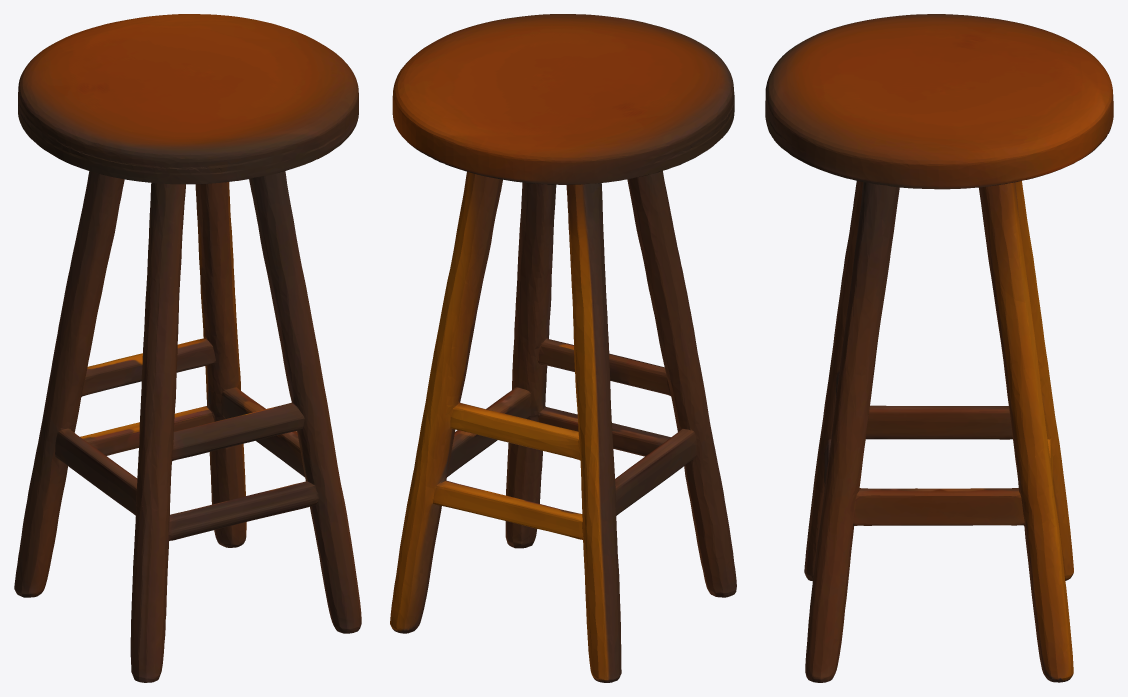
File: bar_stool_30.obj
3 views of the same model, side by side, from view 1: azimuth 30°, elevation 25°; view 2: azimuth 150°, elevation 25°; view 3: azimuth 270°, elevation 25° (orthographic). The views are drawn at different scales.
Size of the model in its own units: 0.448 by 0.775 by 0.4486.
Materials: 1 (1 with a texture image).
